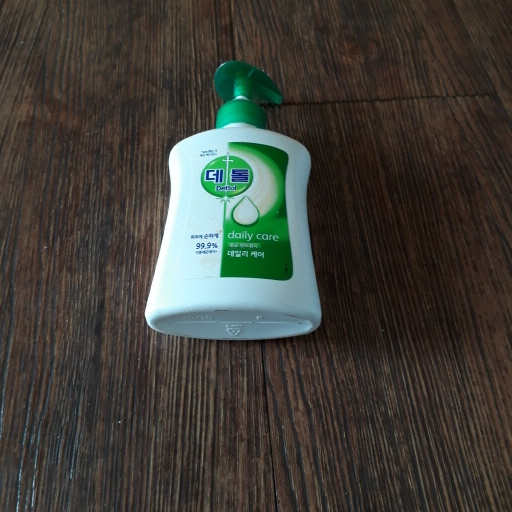Plastic_3: (146, 58, 322, 349)
